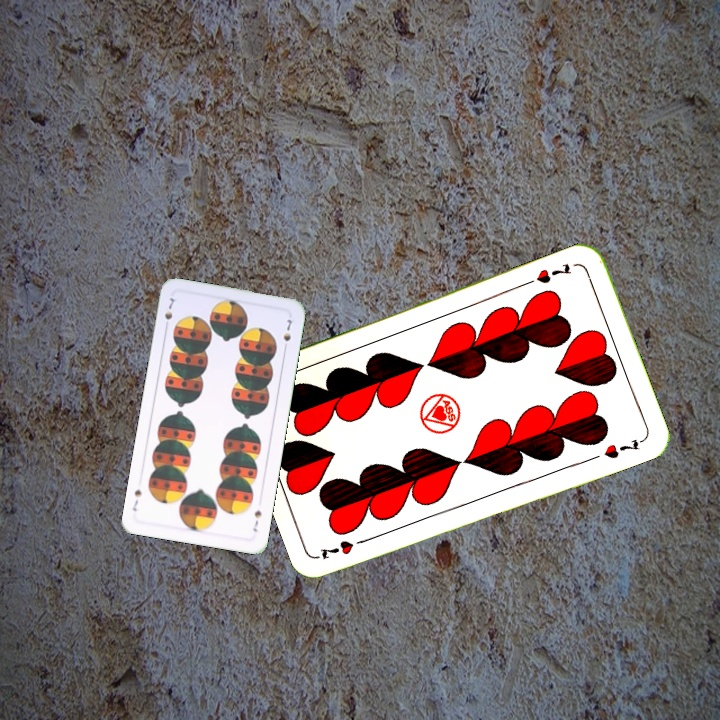H7: (315, 534, 372, 562), (522, 259, 574, 288)
S7: (160, 294, 177, 332), (249, 506, 264, 534)
